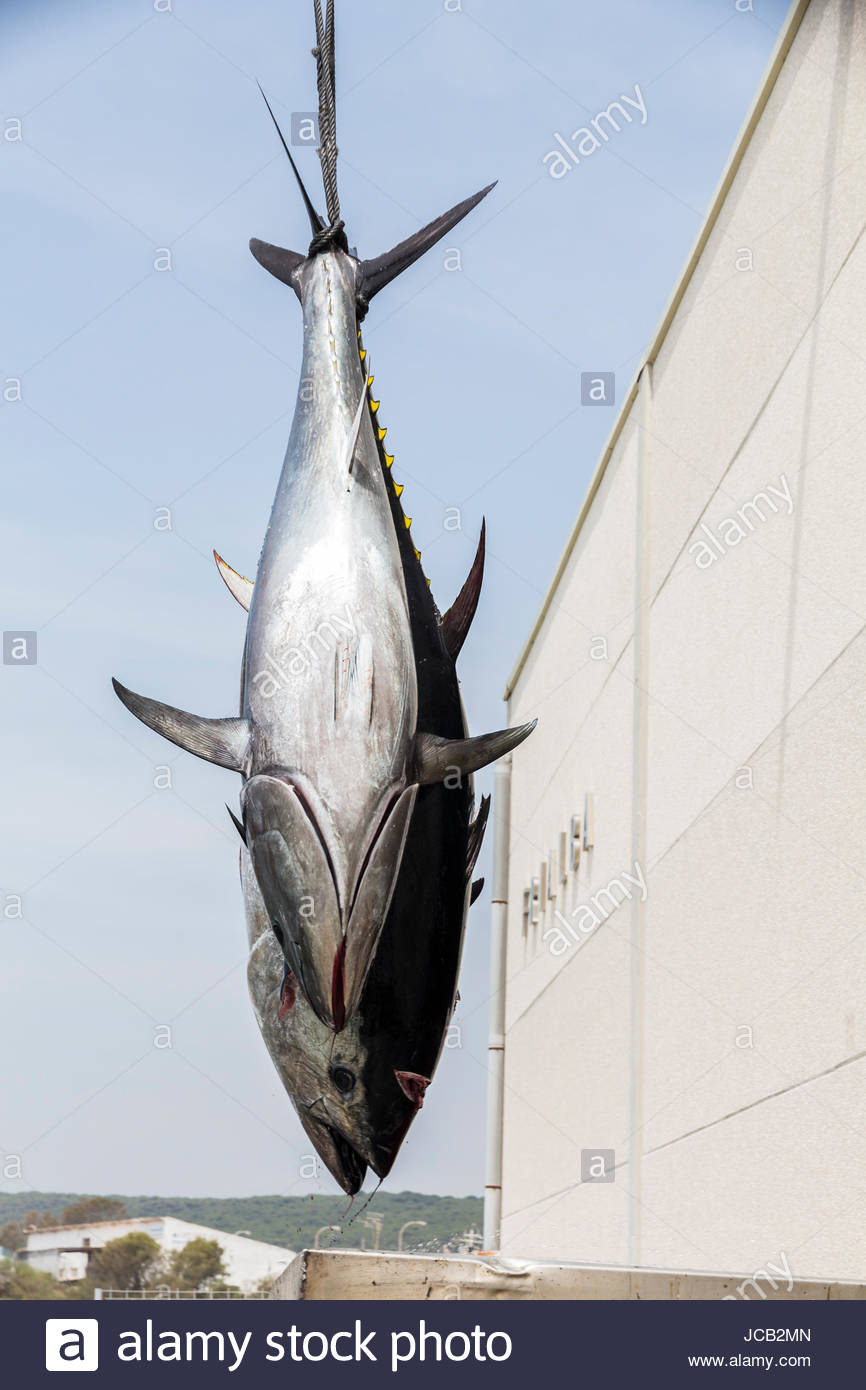Bluefina Tuna: (200, 195, 527, 1209)
